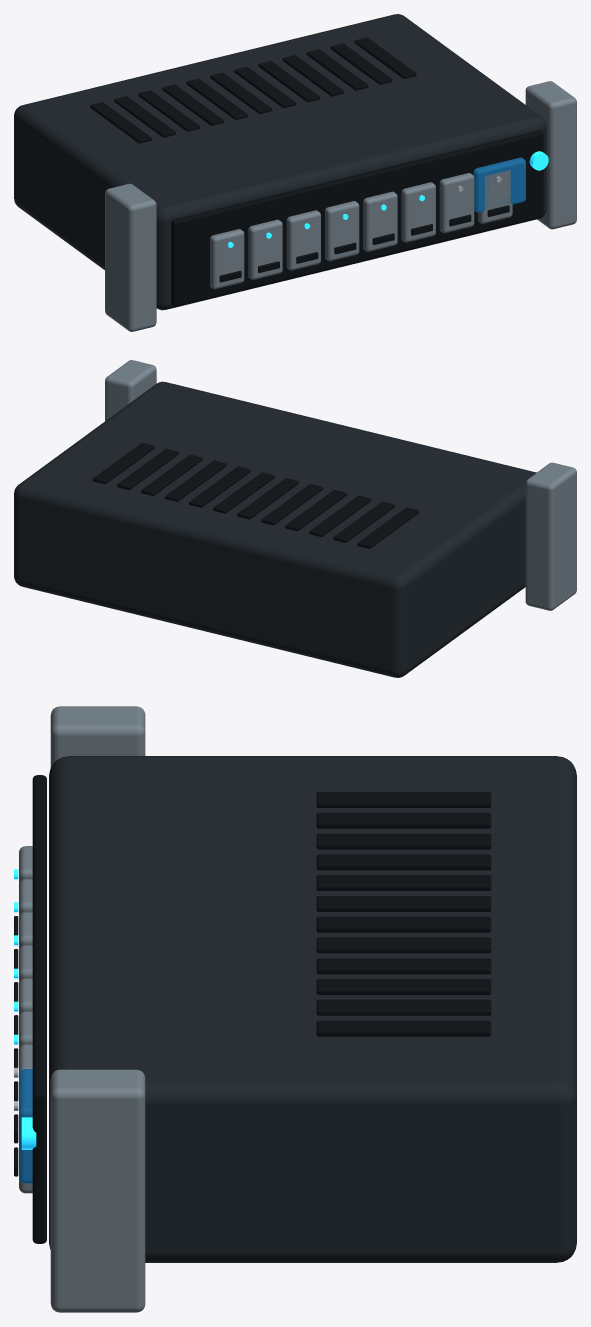
File: rack-server.glb
3 views of the same model, one above another, from view 1: azimuth 30°, elevation 25°; view 2: azimuth 150°, elevation 25°; view 3: azimuth 270°, elevation 25° (orthographic). The views are drawn at different scales.
Visible parts, largest first — view 1: 2U server chassis, Server front panel, Rack ear (×2), Cooling vent (×12), Hot-swap bay 7, Hot-swap bay 3, Hot-swap bay 5, Hot-swap bay 6, Hot-swap bay 1, Hot-swap bay 4, Hot-swap bay 2, Premium 2U rack server (+2 smaller); view 2: 2U server chassis, Cooling vent (×12), Rack ear (×2); view 3: 2U server chassis, Cooling vent (×12), Rack ear (×2), Server front panel, Premium 2U rack server, Server status display.
Boxes of the visible parts, box(x1,y1,x2,y2) form: 2U server chassis: box(14, 14, 546, 310); Server front panel: box(171, 130, 543, 306); Rack ear (×2): box(105, 81, 576, 331); Cooling vent (×12): box(90, 37, 416, 143); Hot-swap bay 7: box(439, 173, 474, 233); Hot-swap bay 3: box(286, 210, 320, 270); Hot-swap bay 5: box(363, 191, 397, 251); Hot-swap bay 6: box(401, 182, 435, 242); Hot-swap bay 1: box(210, 229, 244, 289); Hot-swap bay 4: box(325, 201, 359, 261); Hot-swap bay 2: box(248, 219, 282, 279); Premium 2U rack server: box(219, 176, 509, 282); 2U server chassis: box(14, 381, 536, 677); Cooling vent (×12): box(92, 443, 419, 548); Rack ear (×2): box(105, 360, 576, 610); 2U server chassis: box(49, 756, 576, 1262); Cooling vent (×12): box(316, 792, 491, 1036); Rack ear (×2): box(50, 706, 145, 1312); Server front panel: box(32, 775, 46, 1243); Premium 2U rack server: box(14, 869, 18, 1176); Server status display: box(19, 1069, 32, 1183).
Size of the model in its own units: 2.52 by 0.68 by 1.55.
